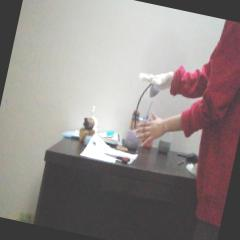gloved: (137, 66, 174, 90)
not-gloved: (132, 109, 168, 150)
